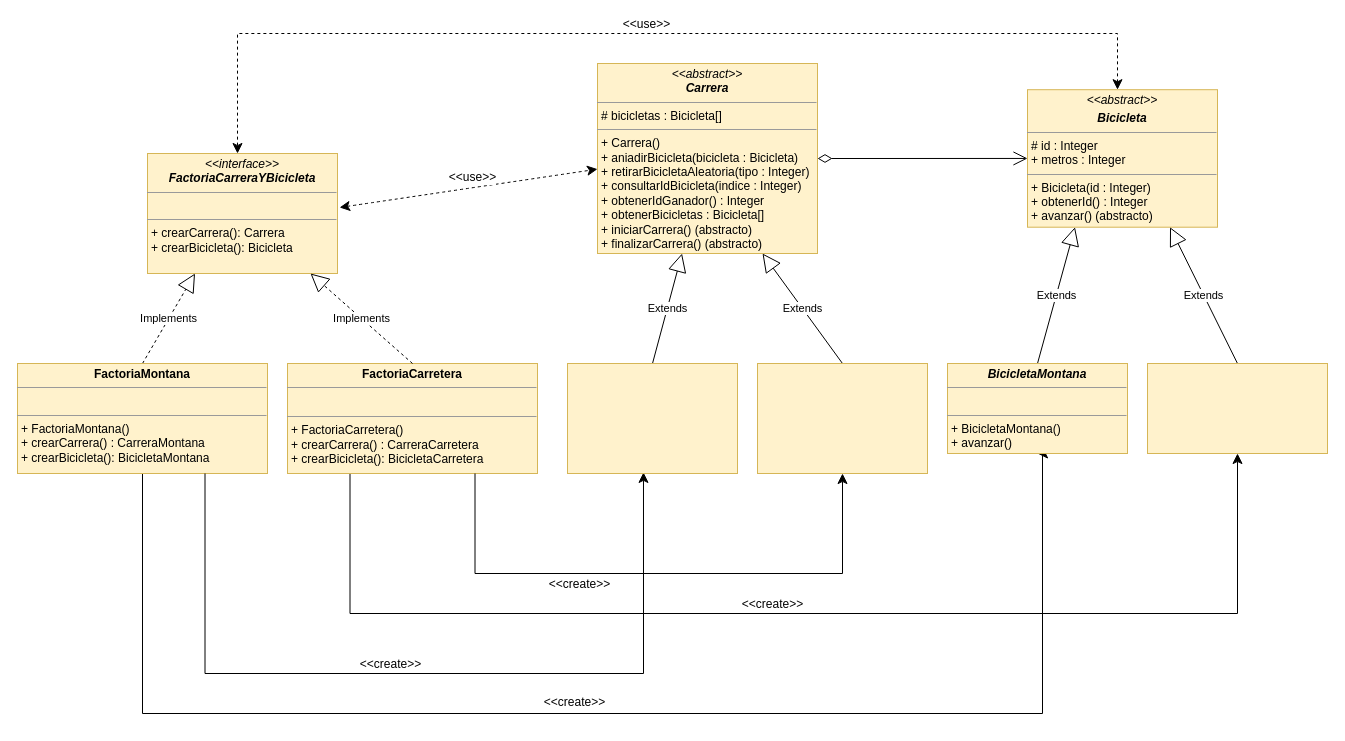
Image size: 1345x741. Some labels were removed from this diagram. Here are the shapes that lost their labels. From the top down, the centre of each, then its label:
pixel 652 418: CarreraMontana + CarreraMontana() + iniciarCarrera() + finalizarCarrera()
pixel 842 418: CarreraCarretera + CarreraCarretera() + iniciarCarrera() + finalizarCarrera()
pixel 1237 408: BicicletaCarretera + BicicletaCarretera() + avanzar()
